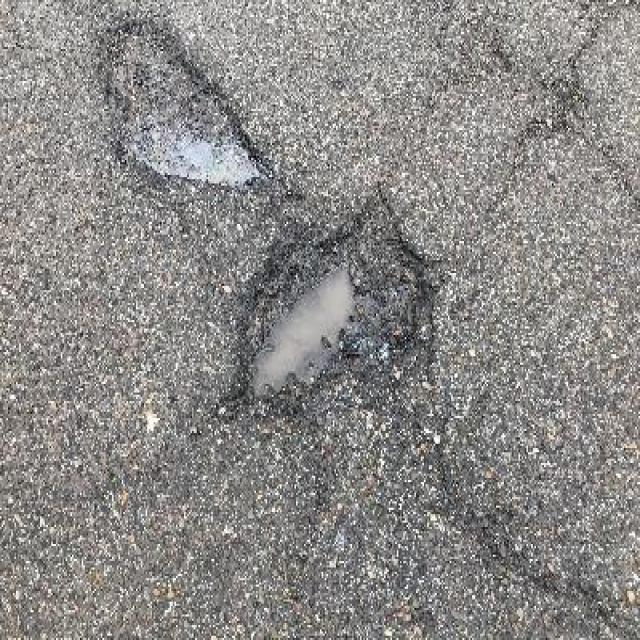medium_pothole: (219, 180, 440, 422), (91, 13, 272, 192)
